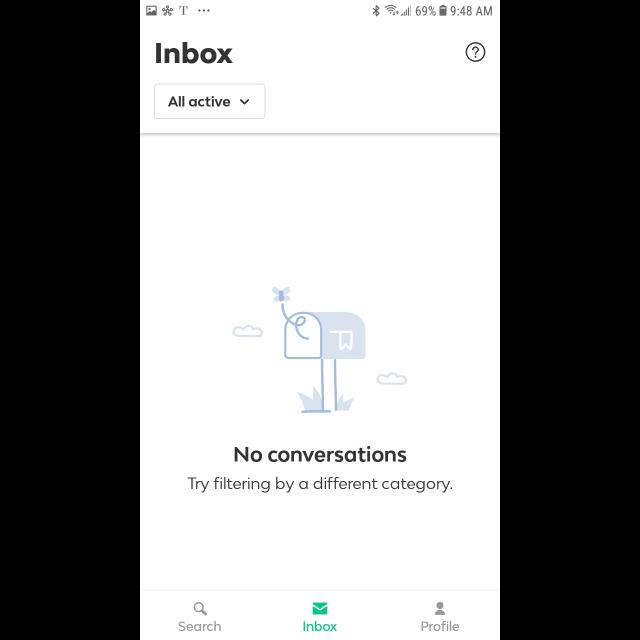icon: (466, 42, 486, 62), (193, 602, 207, 616), (312, 602, 328, 614), (434, 601, 446, 615)
image: (232, 286, 408, 414)
text: (188, 477, 452, 493), (235, 446, 407, 462), (156, 42, 232, 64), (178, 620, 222, 632), (421, 620, 459, 632), (303, 620, 337, 632)
textbutton: (154, 84, 266, 120)
uppertaskbar: (140, 1, 500, 18)
